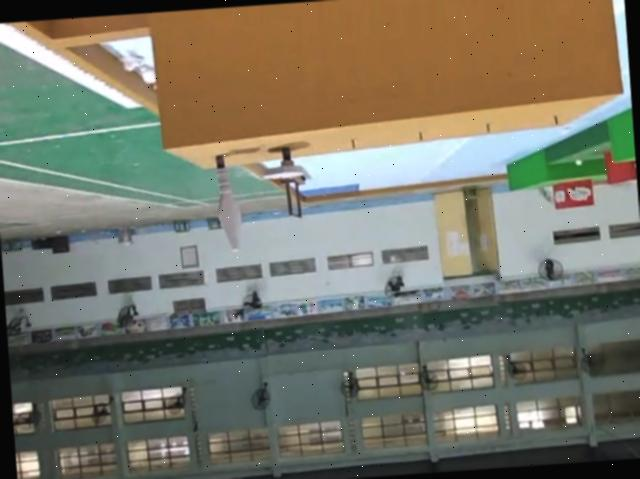Hand: (258, 144, 304, 177)
Sph: (211, 156, 244, 250)
